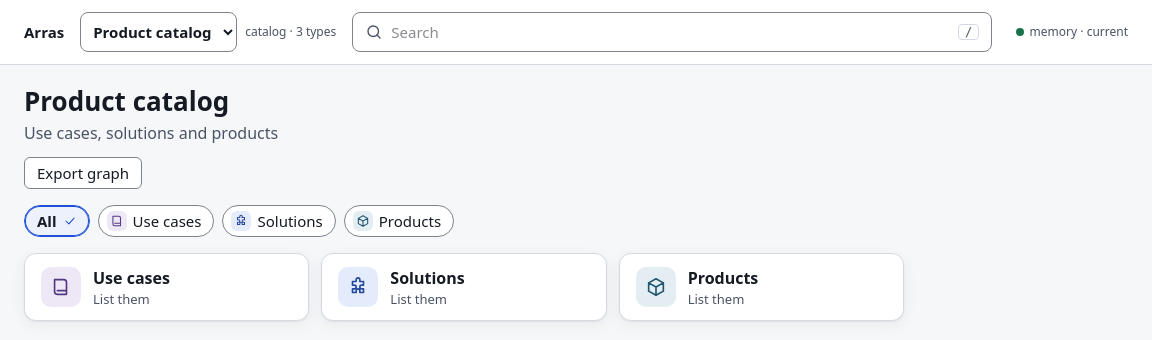
it: exporting the graph › reads the whole graph a page at a time and saves one canonical file named for the module
Click the button "Export graph". click: (83, 173)
box: [24, 157, 142, 189]
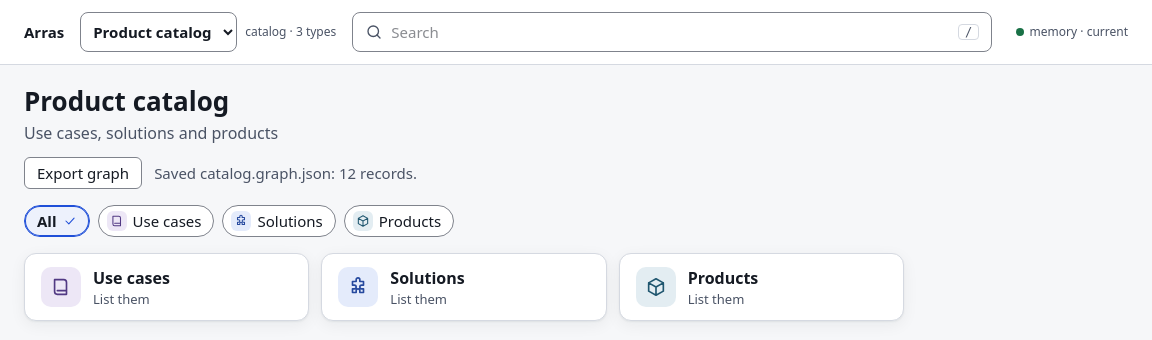
Now the message reads "Saved catalog.graph.json: 12 records.", box [154, 163, 417, 183]
